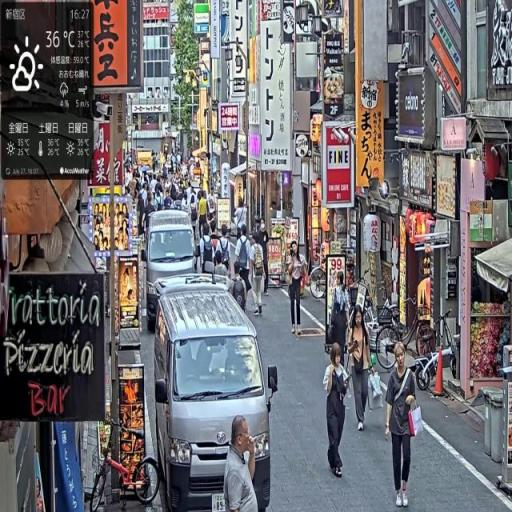person: (348, 305, 375, 433), (288, 235, 308, 338)
